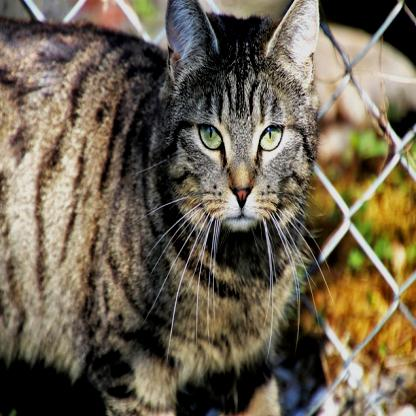cat: (0, 2, 324, 415)
